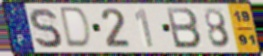1: (133, 8, 155, 49)
2: (100, 7, 133, 50)
8: (203, 7, 232, 50)
B: (164, 6, 204, 50)
D: (59, 6, 93, 51)
S: (28, 7, 64, 50)
